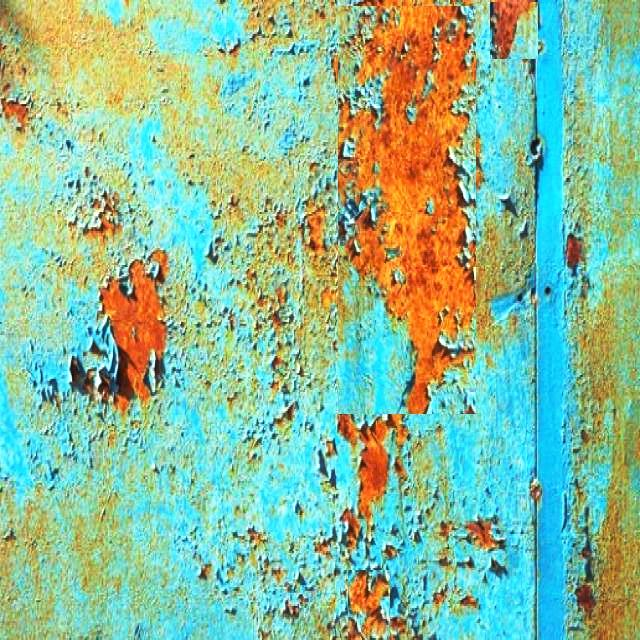Corrosion: (338, 4, 476, 414), (69, 250, 167, 412), (61, 167, 118, 234), (358, 420, 389, 534), (348, 572, 389, 638), (491, 0, 536, 58), (349, 572, 389, 616), (465, 520, 504, 552), (2, 98, 27, 126), (576, 585, 596, 616), (566, 234, 582, 270), (530, 479, 543, 504)
